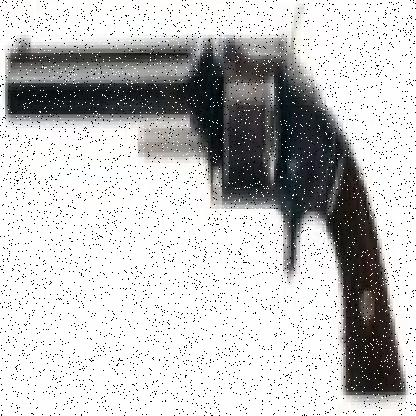pistol: (3, 14, 411, 399)
